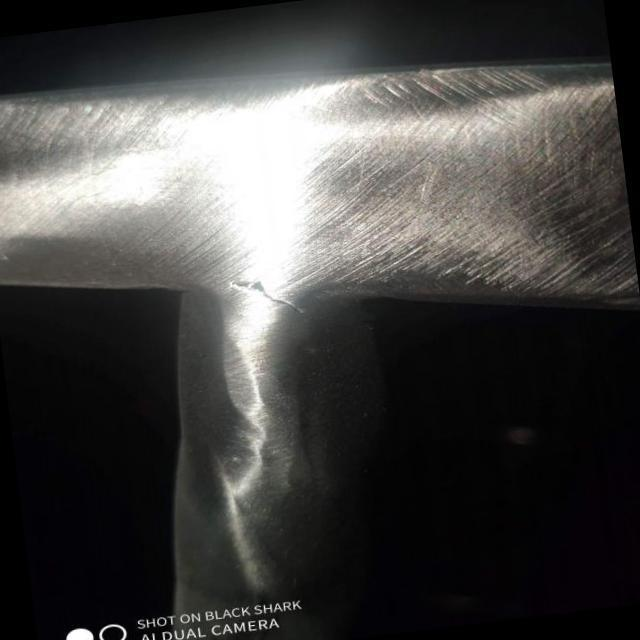defect: (229, 279, 306, 315)
